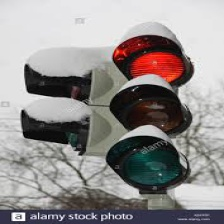semaforo: (106, 21, 200, 201)
